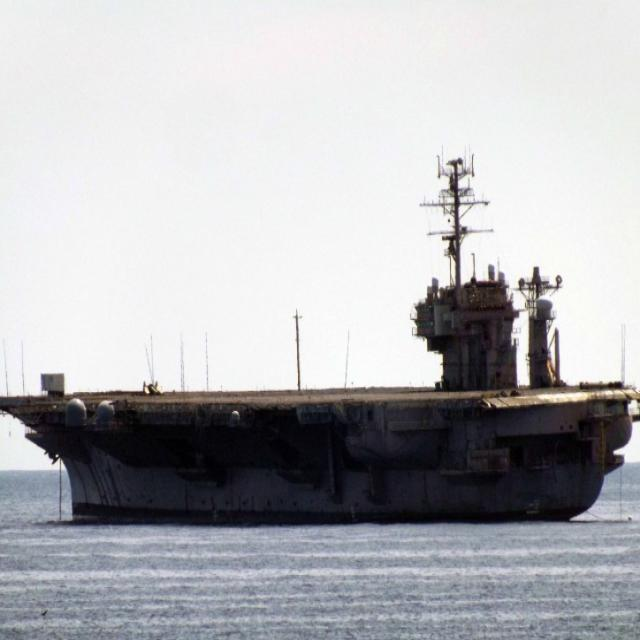Portanaves: (1, 143, 640, 532)
